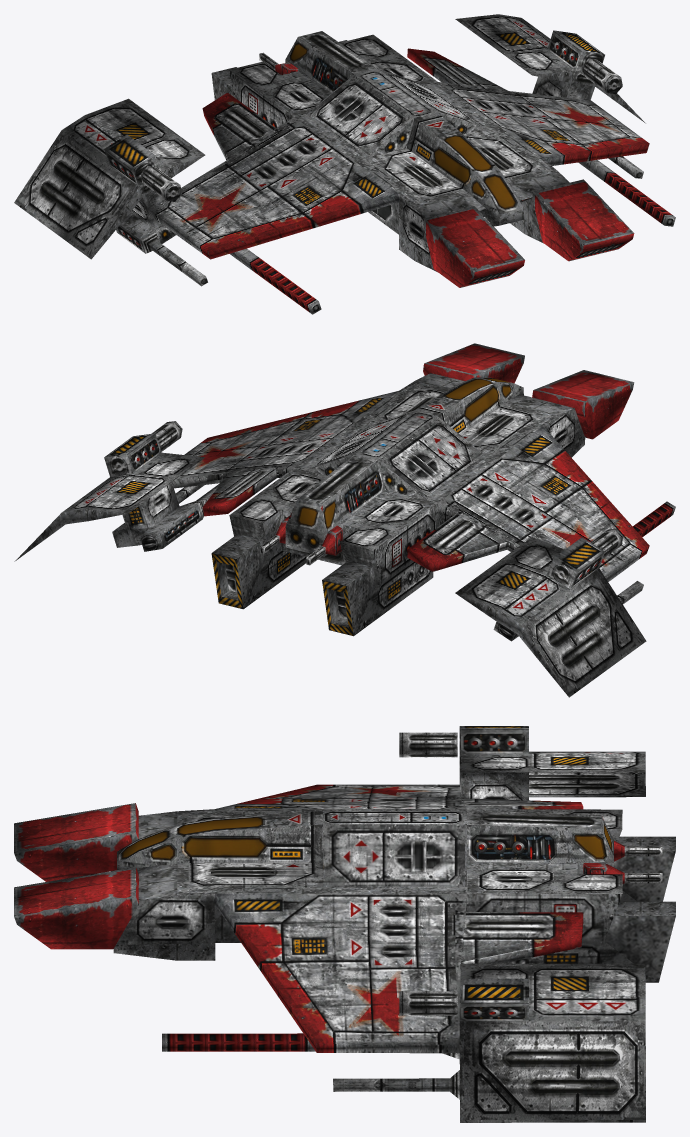
File: lagg.glb
3 renders of one model, top to bottom at view 1: azimuth 30°, elevation 25°; view 2: azimuth 150°, elevation 25°; view 3: azimuth 270°, elevation 25°, orthographic. The views are drawn at different scales.
Parts seen in each view (by area): view 1: Lagg, Lagg cockpit; view 2: Lagg, Lagg cockpit; view 3: Lagg, Lagg cockpit.
Part boxes in pixels (x1,y1,x2,y2): Lagg: (14,14,675,314); Lagg cockpit: (406,112,523,226); Lagg: (14,343,675,697); Lagg cockpit: (414,377,523,434); Lagg: (14,726,675,1122); Lagg cockpit: (117,811,322,873).
Bounding box in the file's own units: 1249 × 271 × 1074.
Materials: 1 (1 with a texture image).
